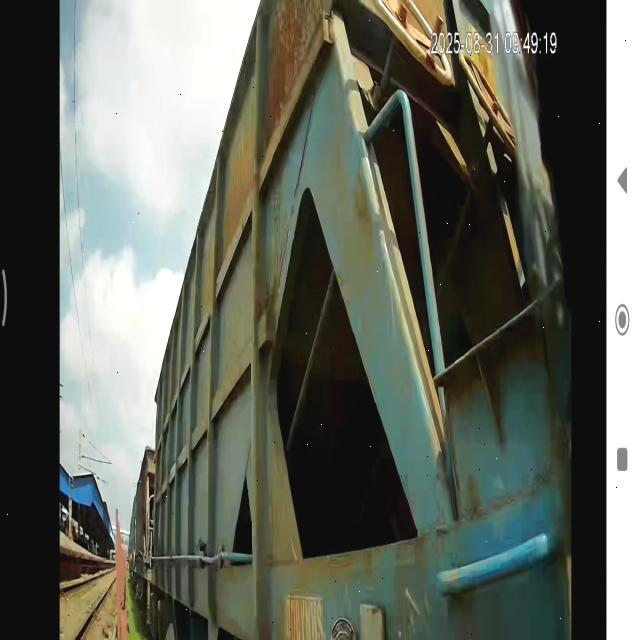coach: (153, 2, 450, 640)
